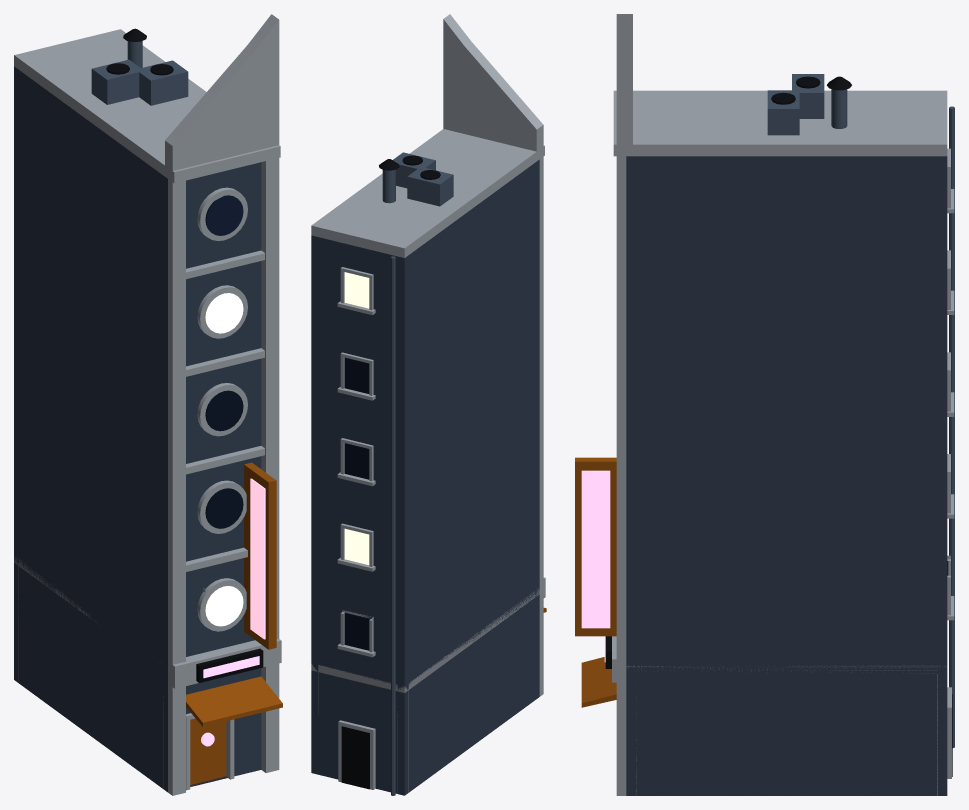
File: row_fin.glb
The picture shows the model from 3 angles, left to right: view 1: azimuth 30°, elevation 25°; view 2: azimuth 150°, elevation 25°; view 3: azimuth 270°, elevation 25°; orthographic projection. The views are drawn at different scales.
Visible parts, largest first — view 1: row_fin, door_shop_leaf; view 2: row_fin; view 3: row_fin.
Part boxes in pixels (x1=…): row_fin: x1=14, y1=14, x2=282, y2=795; door_shop_leaf: x1=190, y1=718, x2=226, y2=784; row_fin: x1=311, y1=14, x2=546, y2=795; row_fin: x1=575, y1=14, x2=954, y2=795.
Size of the model in its own units: 4 by 26.9 by 11.84.
